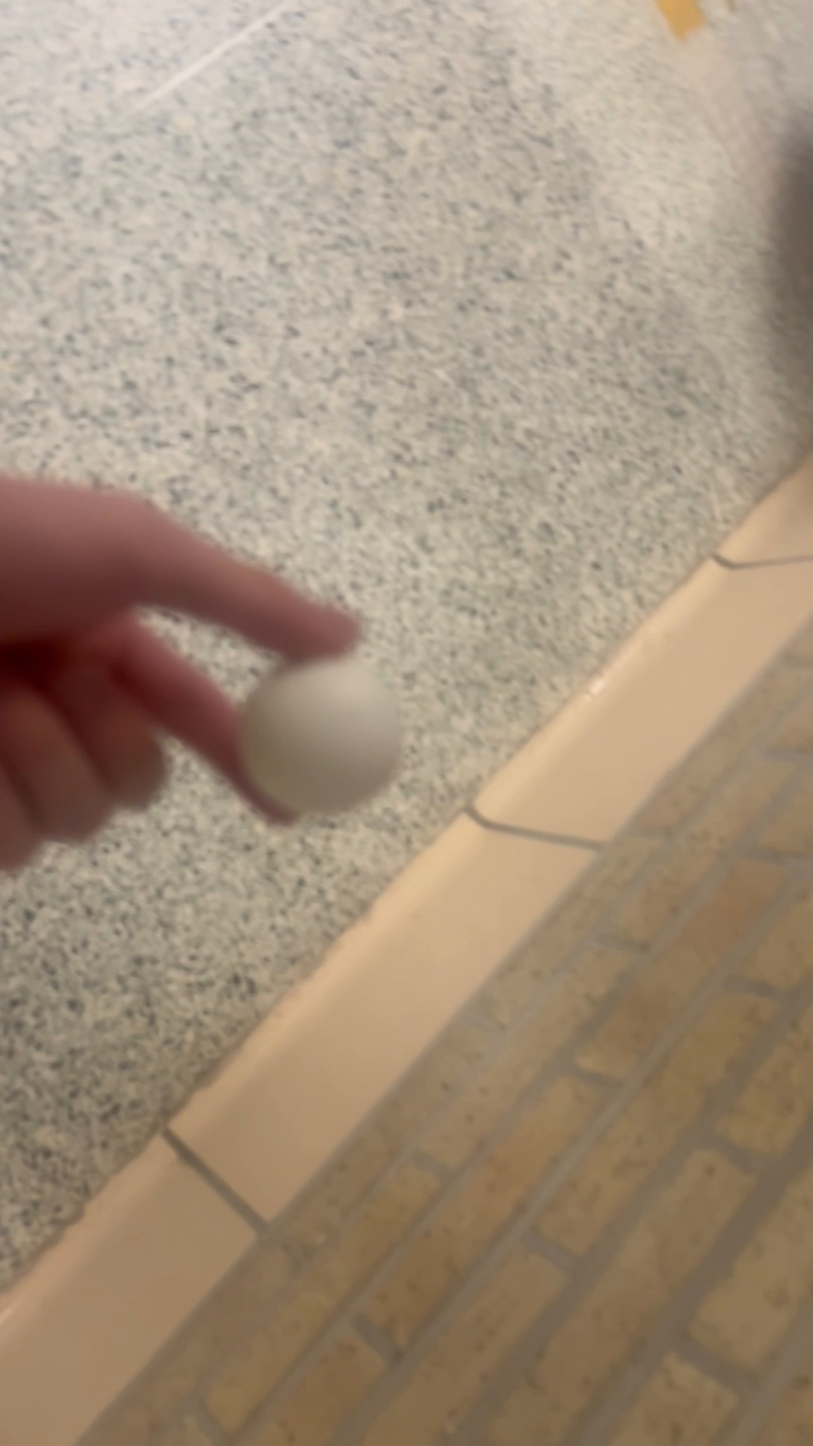Ball: (226, 621, 406, 827)
